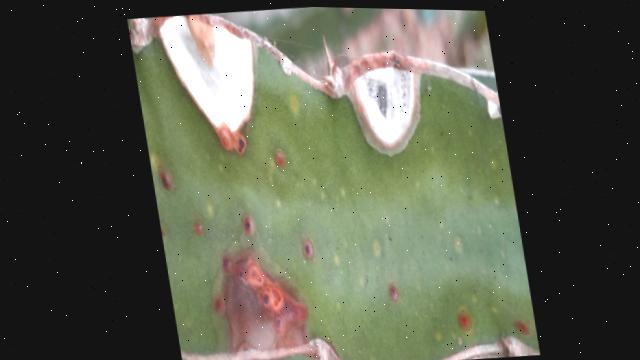stemcanker: (449, 301, 479, 339), (150, 162, 177, 195), (269, 144, 294, 176), (383, 278, 404, 310), (239, 207, 258, 239), (301, 234, 319, 267), (189, 216, 207, 243)
